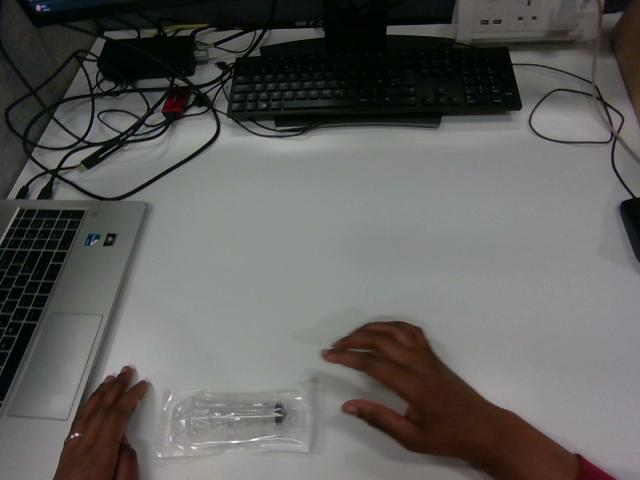syringe: (156, 381, 314, 457)
